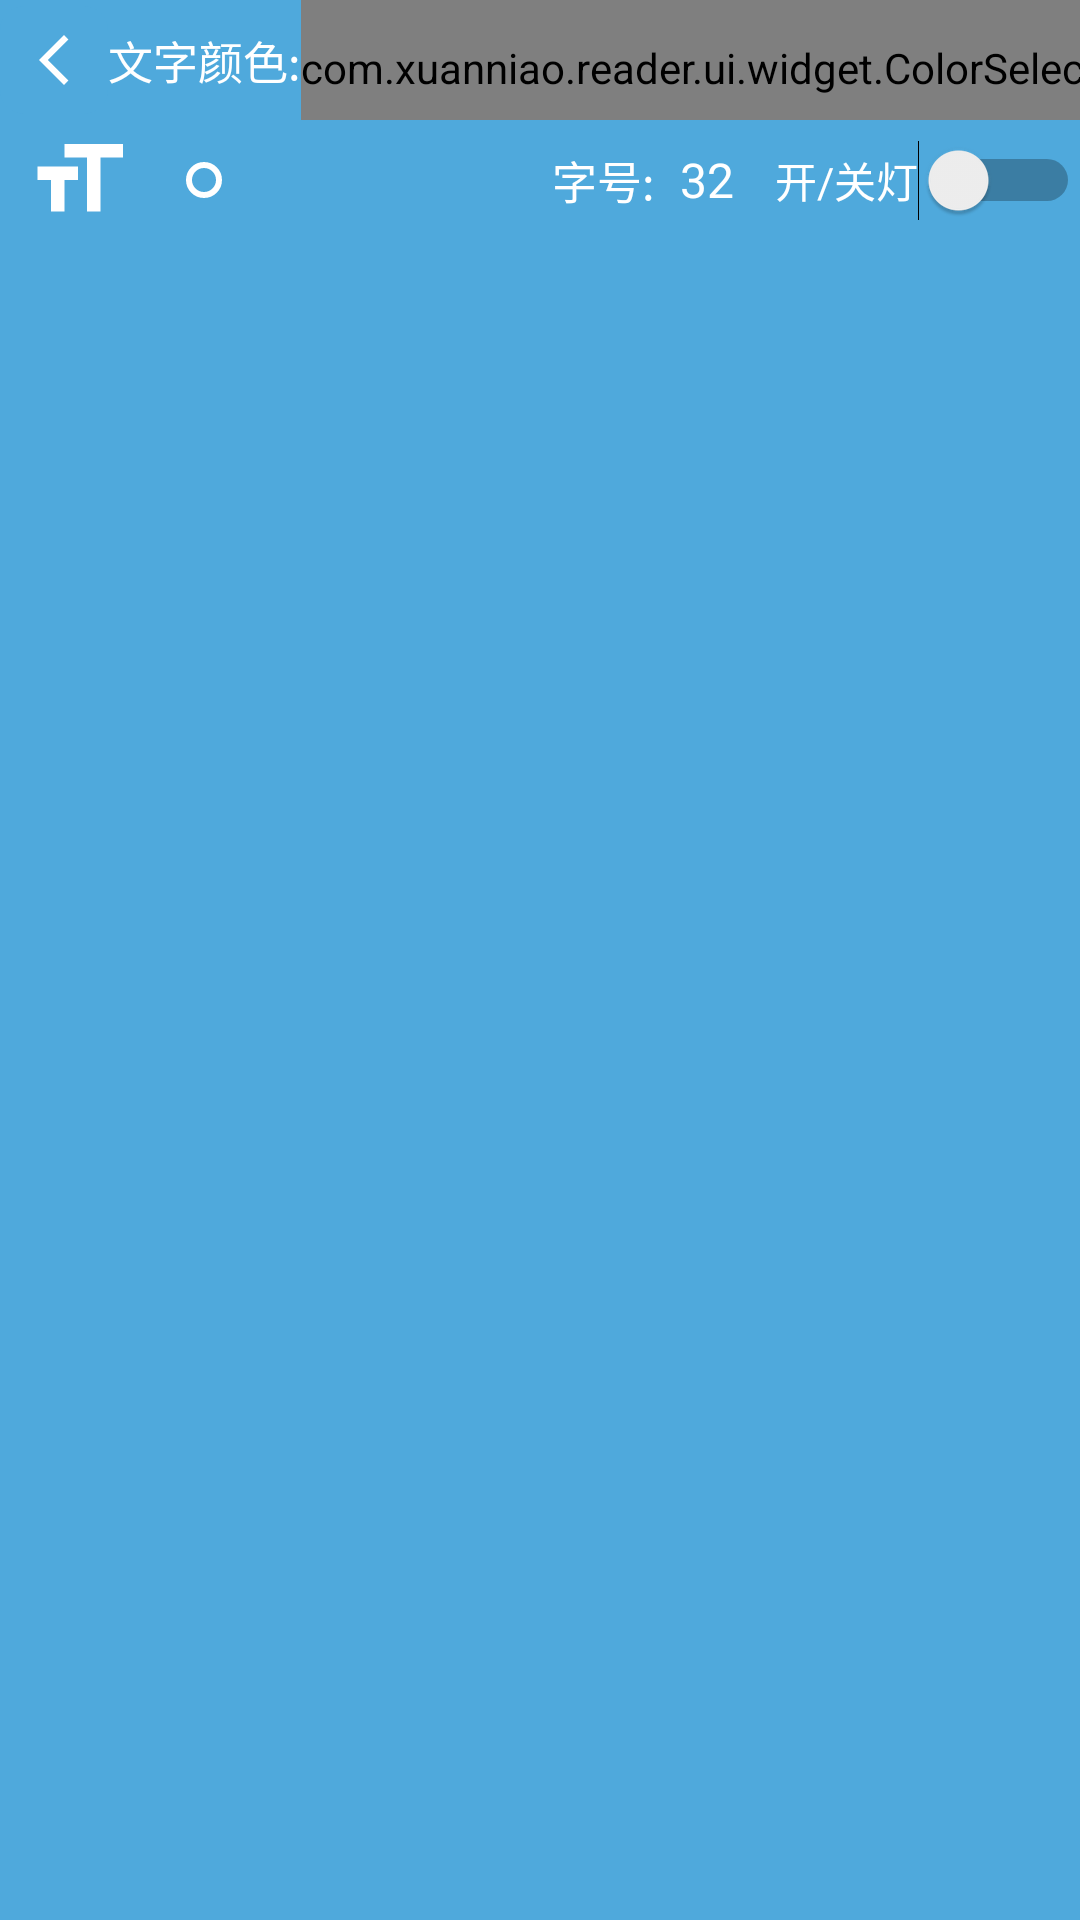

Icon bounding boxes for this 1080 x 1920 phone screenshot, format (x1, y1, x2, y2):
back: (39, 35, 69, 85)
text: (37, 144, 123, 212)
